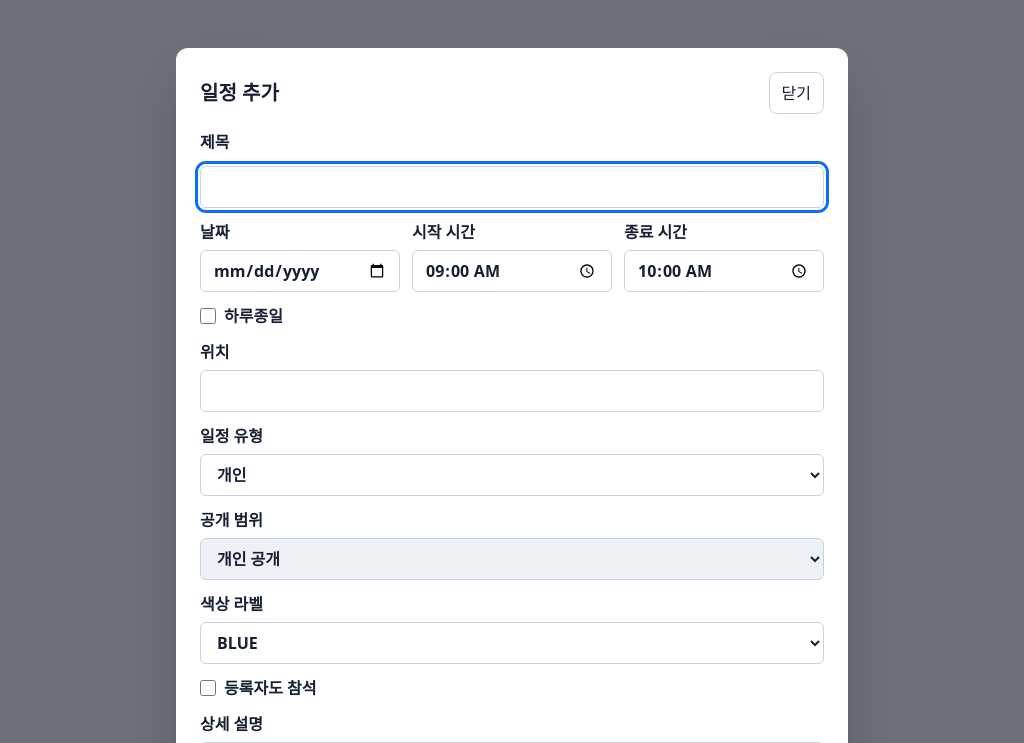
Test: ScheduleCreateModal › keeps attendee-search permission failures visible instead of treating them as an empty result
Select "팀" in the dropdown labelled "일정 유형" at coordinates (512, 475), box [200, 454, 824, 496]
(page scrolled)
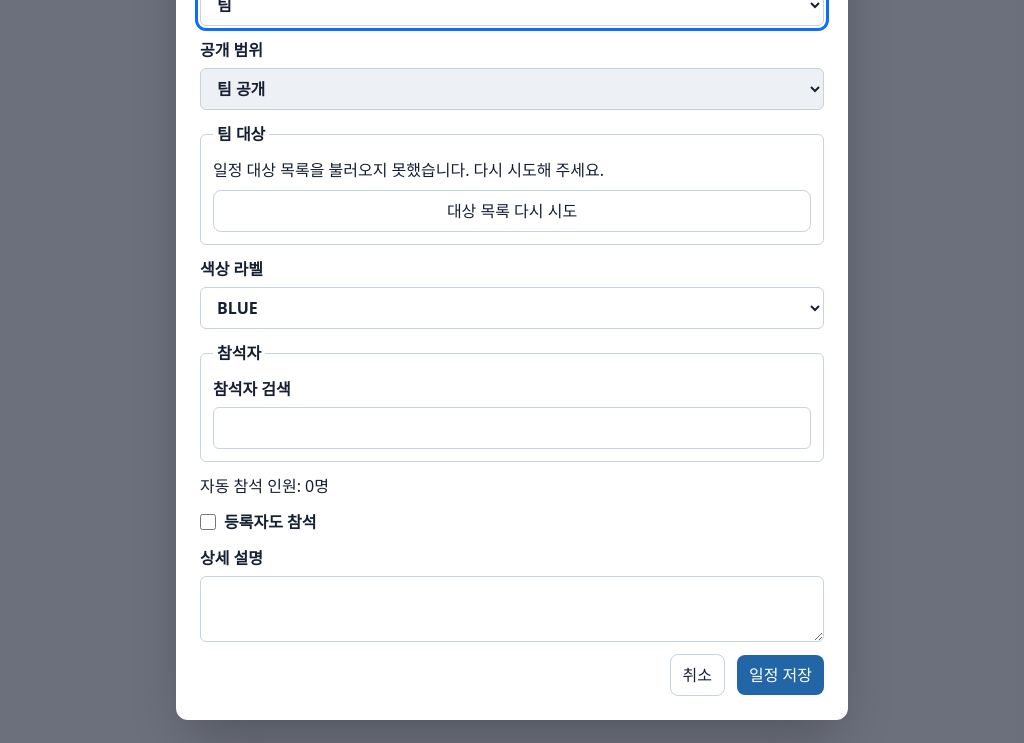
Type "민지" into the field labelled "참석자 검색" at coordinates (512, 428), box [213, 407, 811, 449]
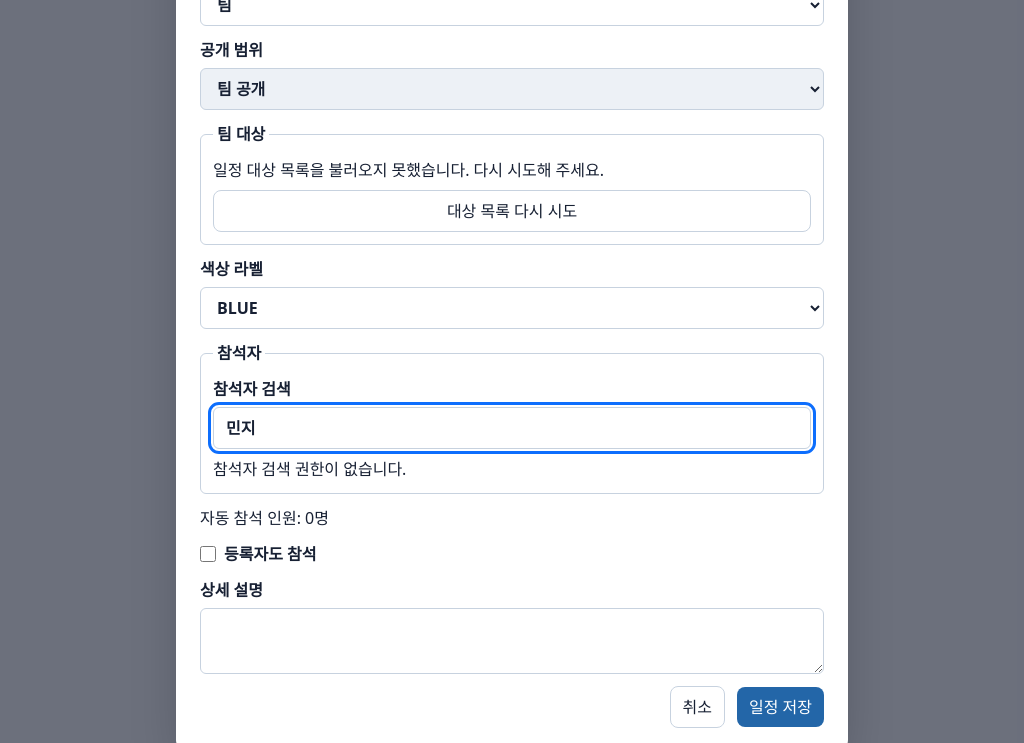
Expected: the text "참석자 검색 권한이 없습니다." is shown, [213, 458, 406, 480]
